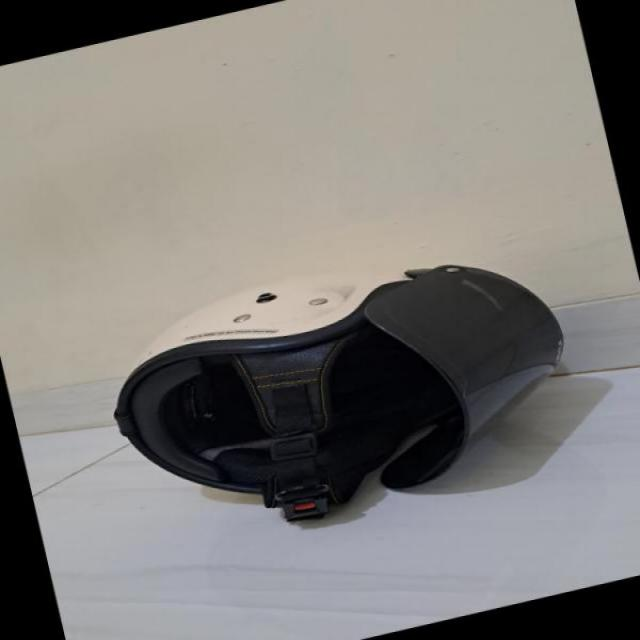Helmet: (106, 242, 575, 523)
